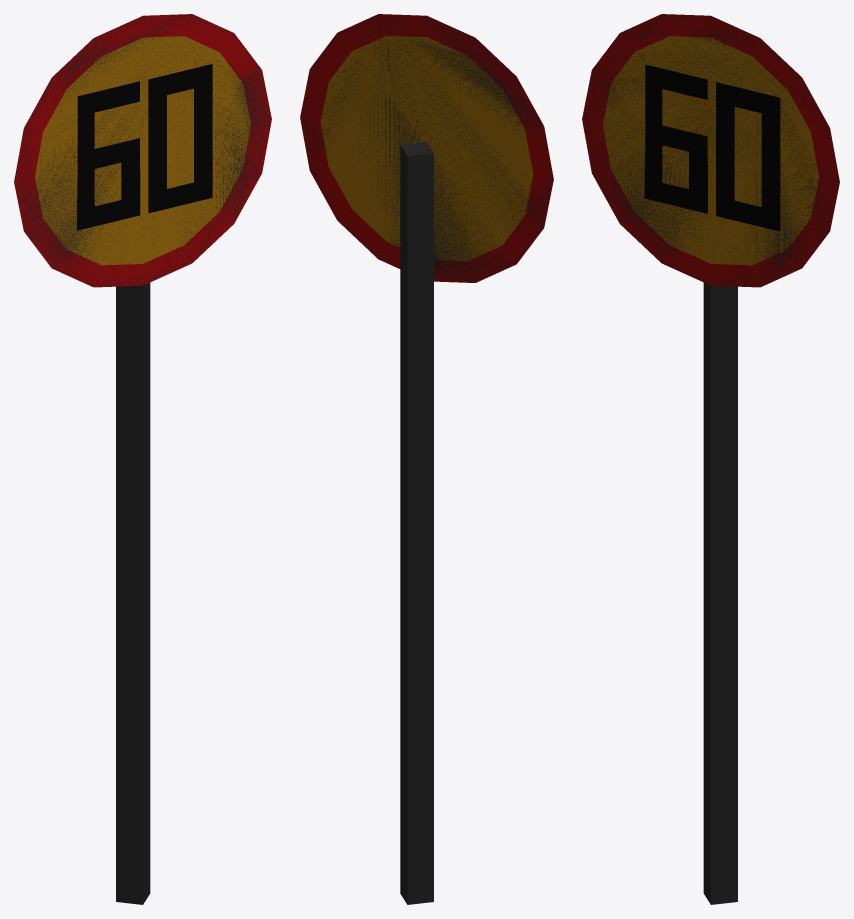
The model's file is 60kmh.obj.
3 renders of one model, left to right at view 1: azimuth 30°, elevation 25°; view 2: azimuth 150°, elevation 25°; view 3: azimuth 330°, elevation 25°, orthographic.
Visible parts, largest first — view 1: Cylinder.002; view 2: Cylinder.002; view 3: Cylinder.002.
Boxes of the visible parts, left/top/right/bottom form: Cylinder.002: left=14, top=14, right=271, bottom=904; Cylinder.002: left=300, top=14, right=553, bottom=904; Cylinder.002: left=582, top=14, right=839, bottom=904.
Bounding box in the file's own units: 0.8957 × 2.95 × 0.1199.
